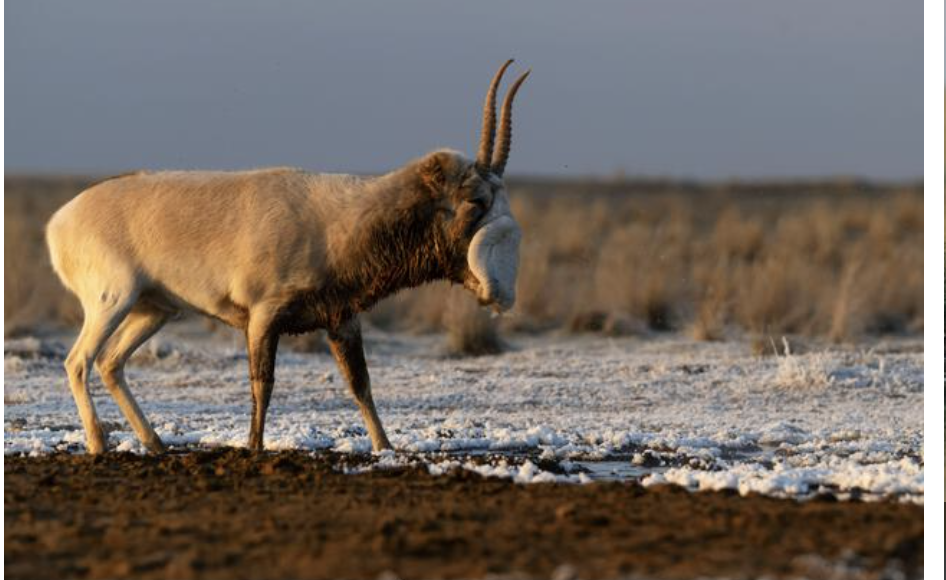saiga: (87, 53, 543, 467)
